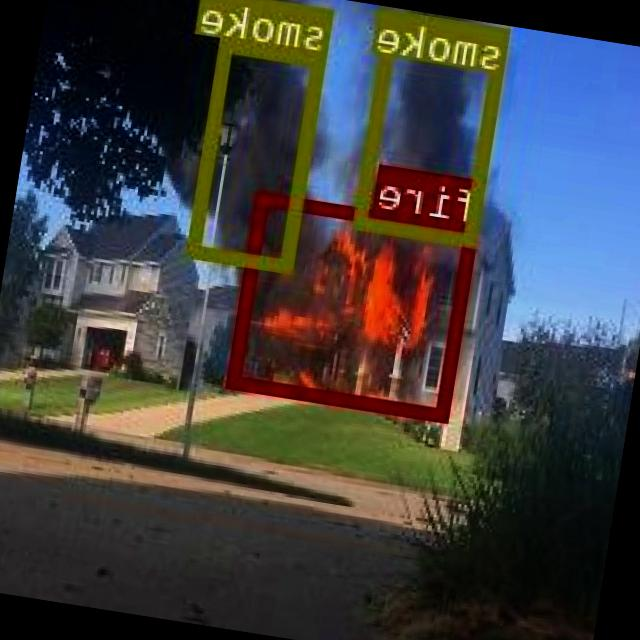fire: (228, 190, 482, 421)
smoke: (358, 9, 514, 246), (189, 38, 330, 272)
